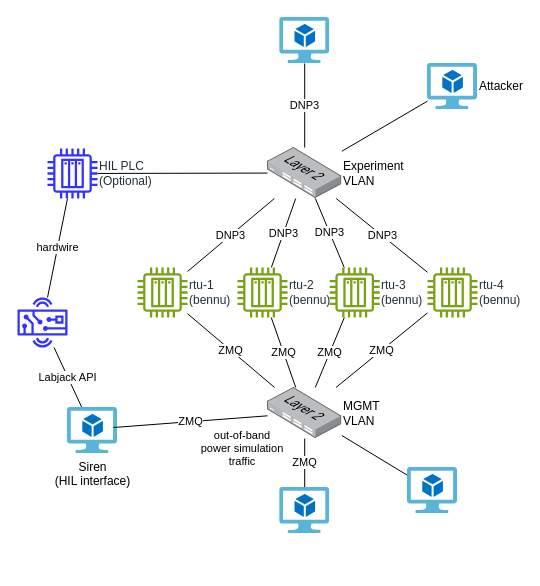
The diagram is 540 pixels wide and 586 high, and some of its shapes have lost their labels. Here are the shapes that lost their labels. From the top down, the centre of each, then its label:
point (304, 40): HMI (Ignition)
point (42, 322): Labjack (Optional)
point (304, 510): power-provider (bennu, pypower)
point (432, 490): netmonitor (packet capture)
